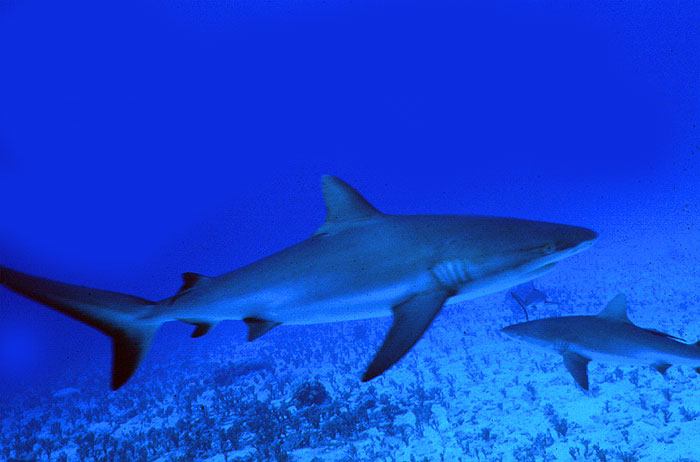Carcharhinus_amblyrhynchos: (6, 167, 604, 375), (483, 294, 699, 389)
